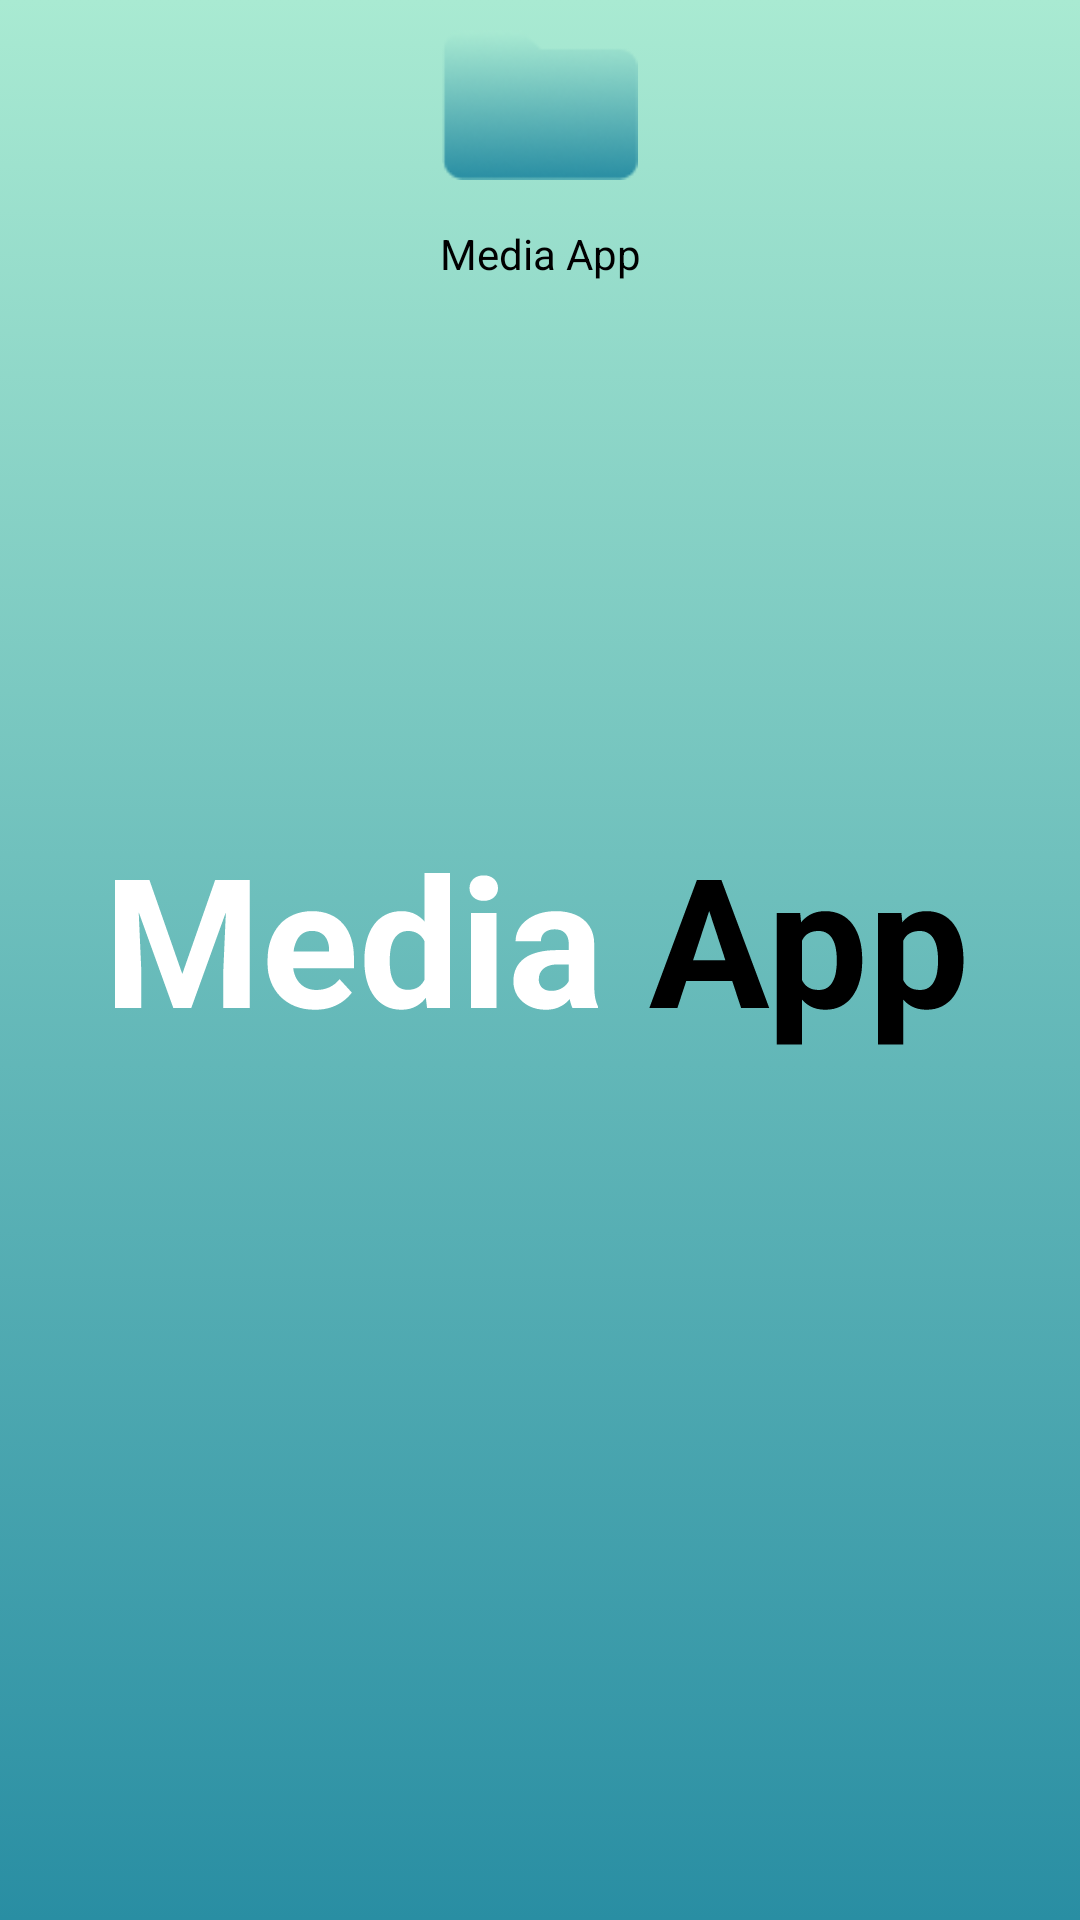

Where to tap for icons on this 1080 × 1920 app screen, as (x,y):
folder: (541,127)
